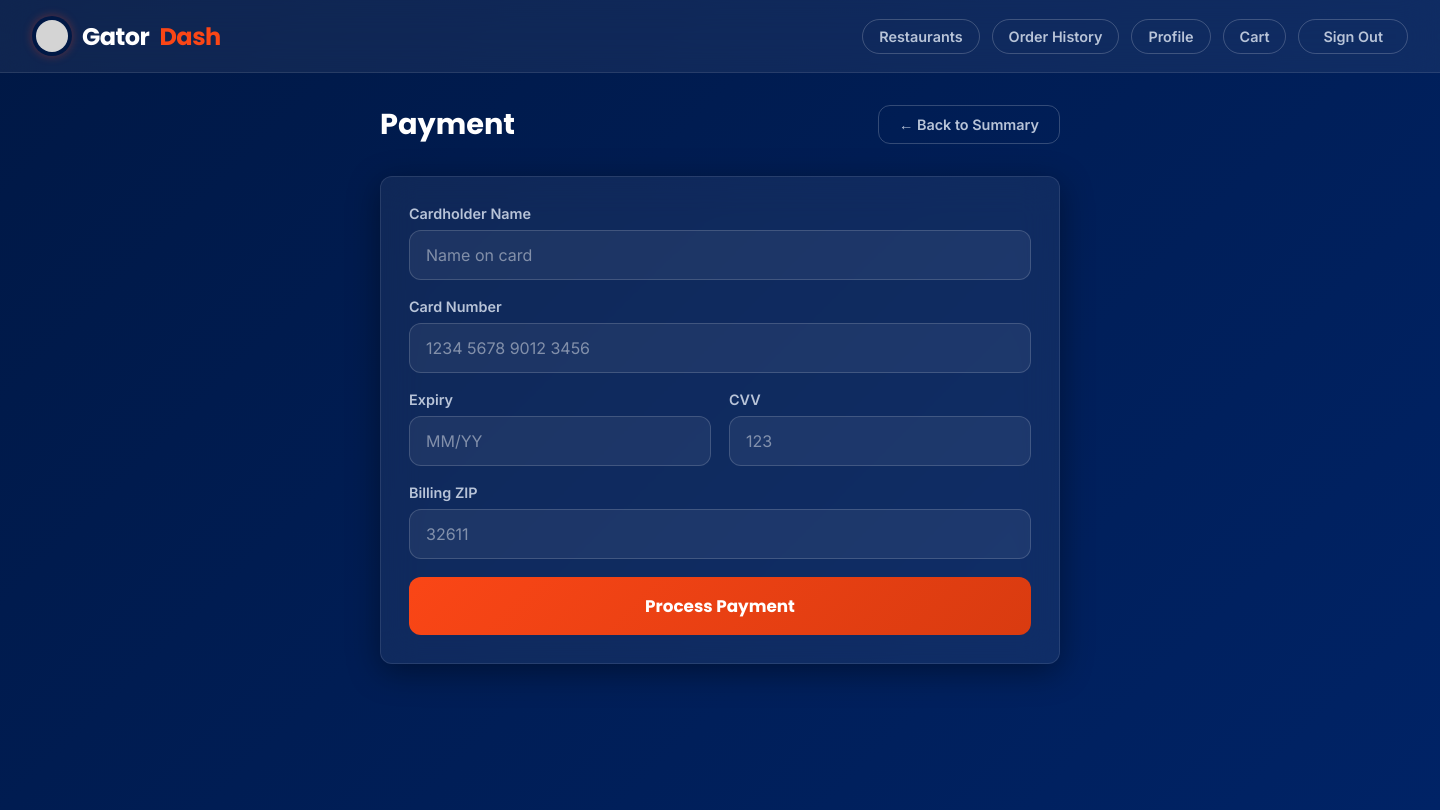
Test case: Payment Component › formats card number and expiry while typing
The image size is (1440, 810).
Type "4242424242424242" into the field with placeholder "1234 5678 9012 3456". click: (720, 348)
box: [409,323,1031,373]
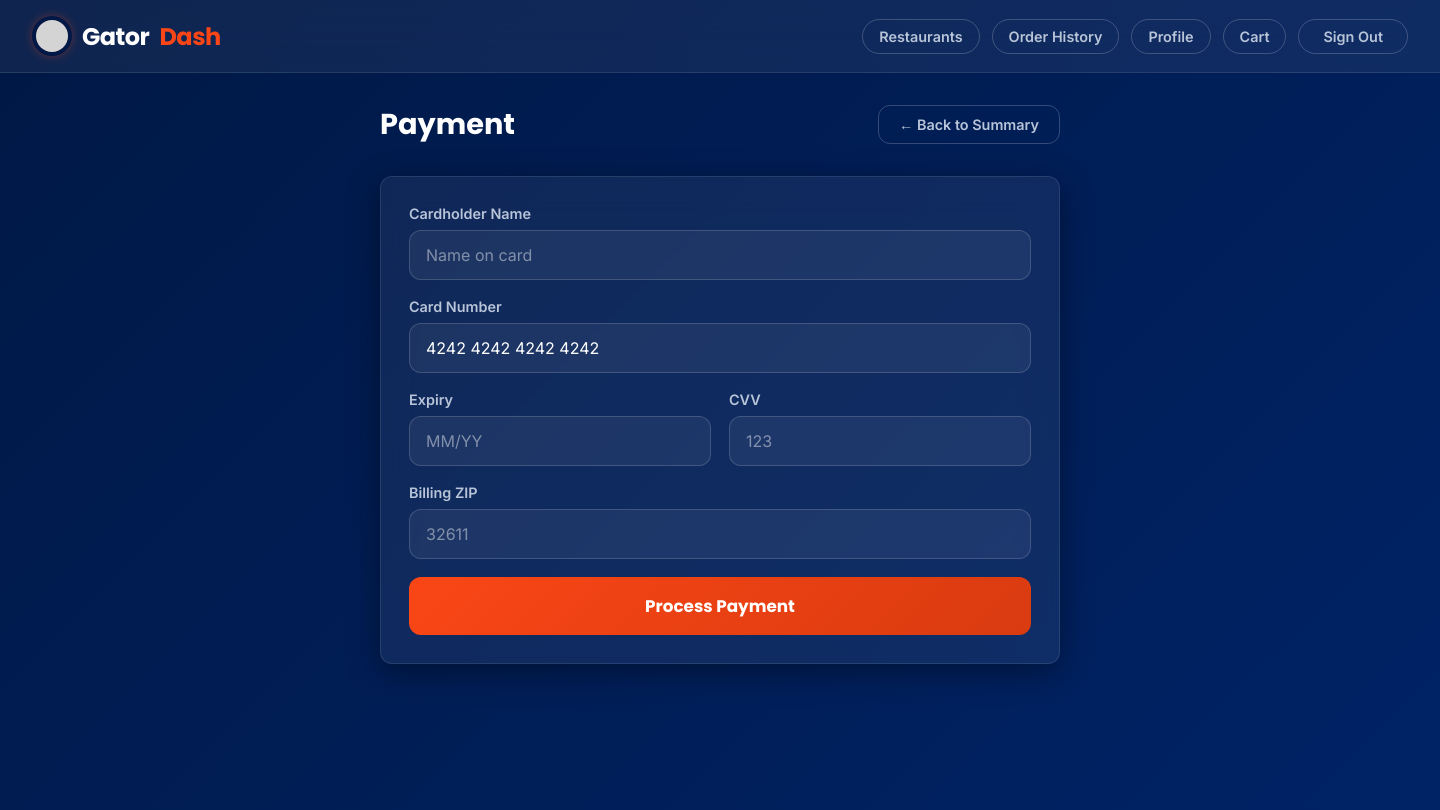
Type "1228" into the field with placeholder "MM/YY". click: (560, 441)
box: [409,416,711,466]
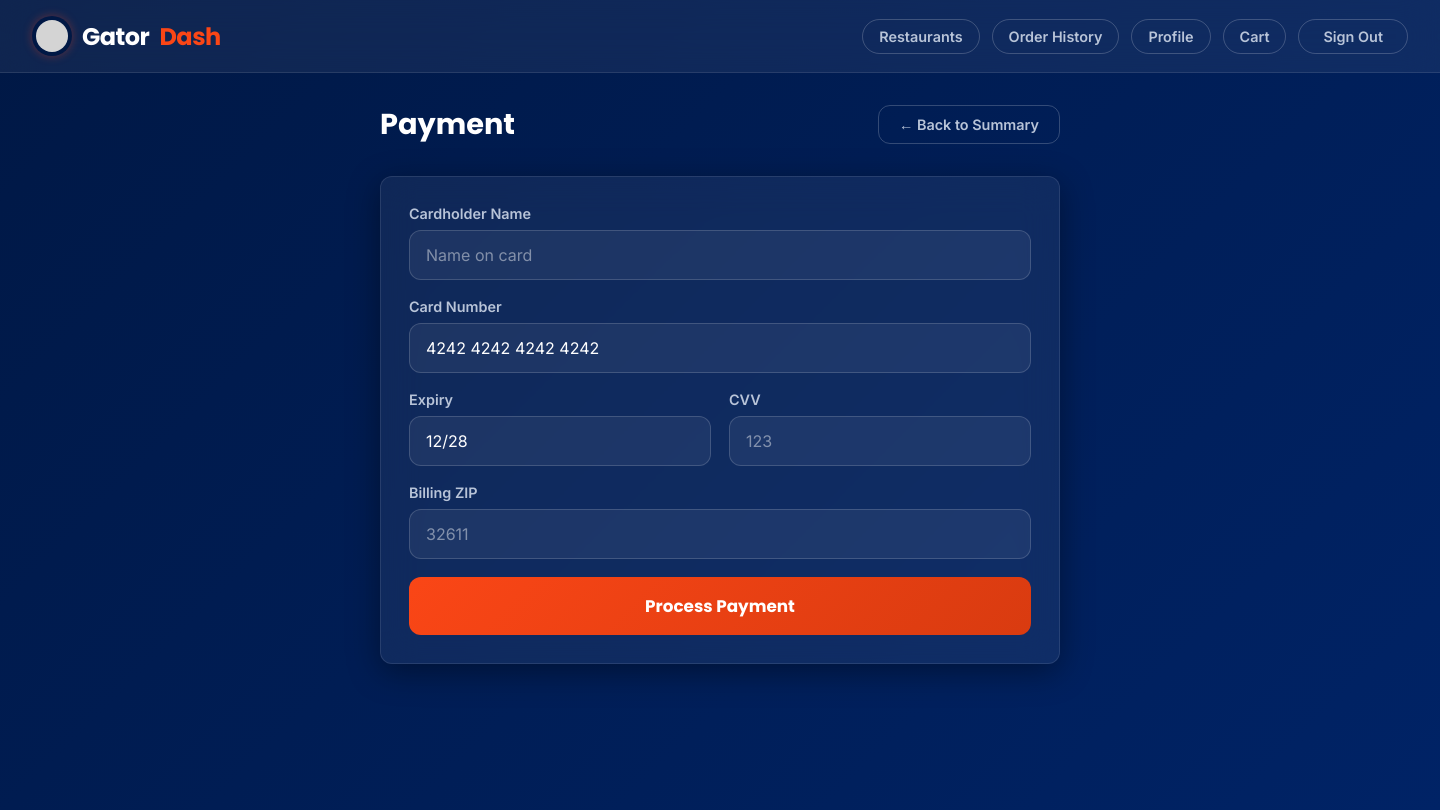
Expected: the field with placeholder "1234 5678 9012 3456" holds "4242 4242 4242 4242", [409,323,1031,373]
Expected: the field with placeholder "MM/YY" holds "12/28", [409,416,711,466]
